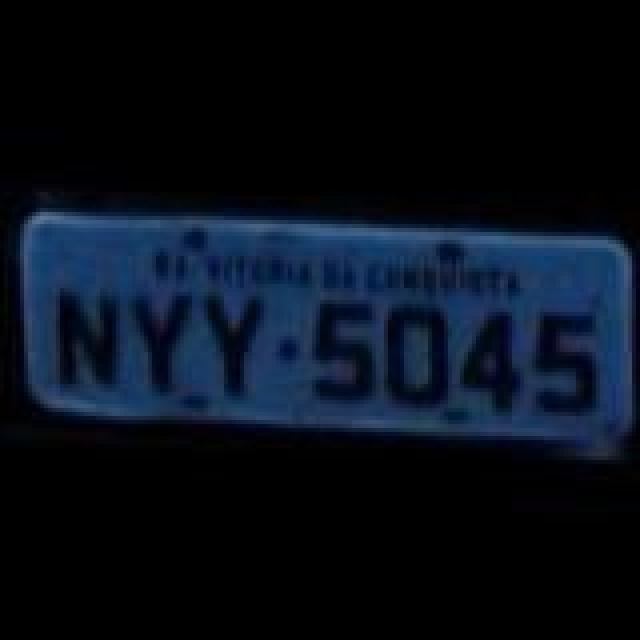4: (450, 302, 526, 418)
5: (520, 300, 600, 424), (310, 292, 378, 404)
N: (54, 286, 122, 398)
O: (378, 298, 454, 410)
Y: (192, 278, 272, 394), (122, 282, 198, 398)
